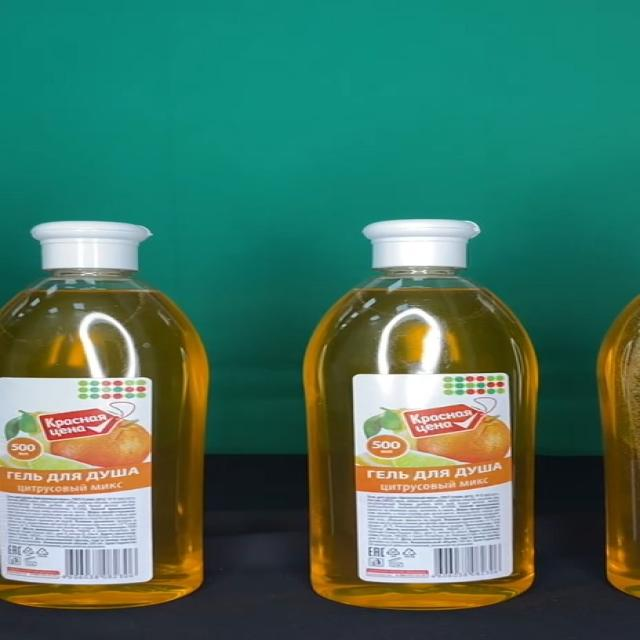Bottle: (301, 219, 539, 609), (0, 222, 208, 608)
Cap: (28, 222, 154, 270), (362, 220, 482, 270)
